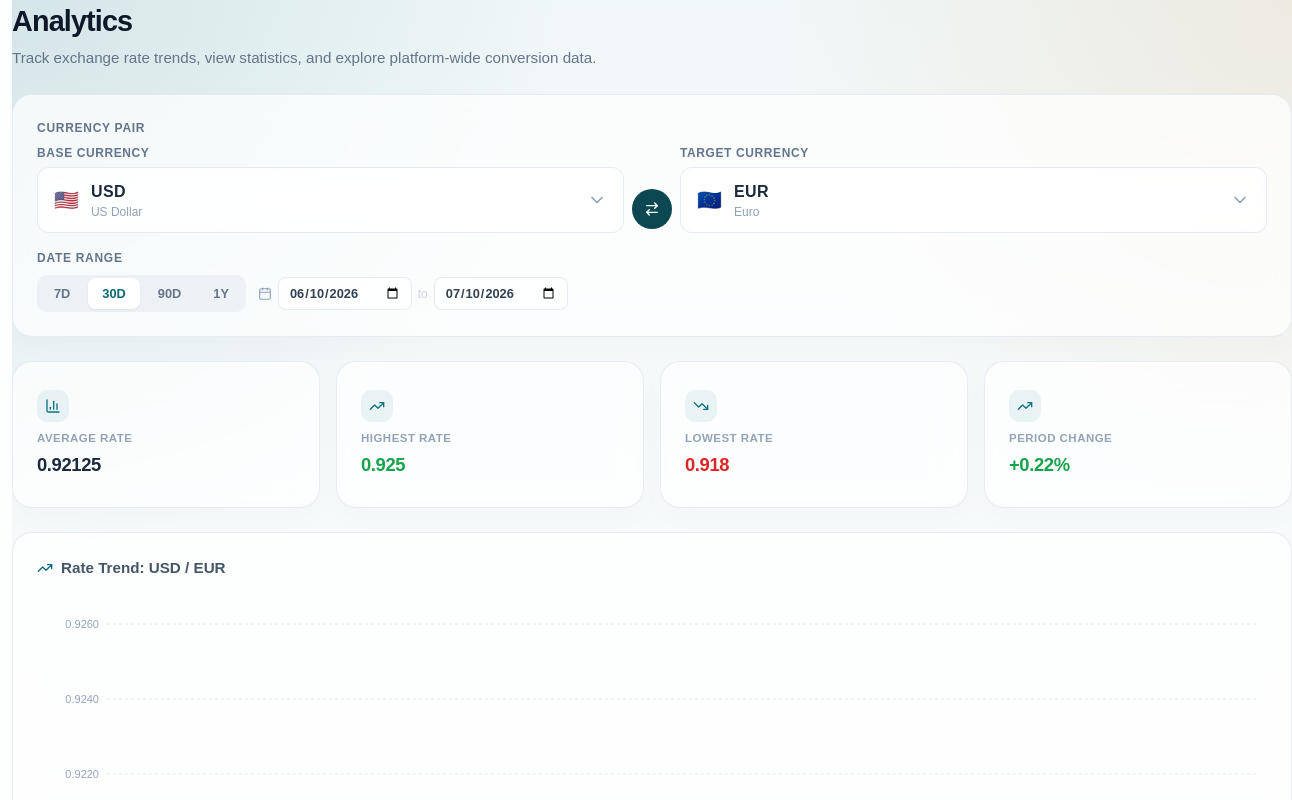
Test: DashboardAnalytics › hides presets when reset is clicked
The width and height of the screenshot is (1292, 800).
Type "2026-01-01" into the date field named "Start date".
click(345, 294); type("2026-01-01")  # box [278,277,412,310]
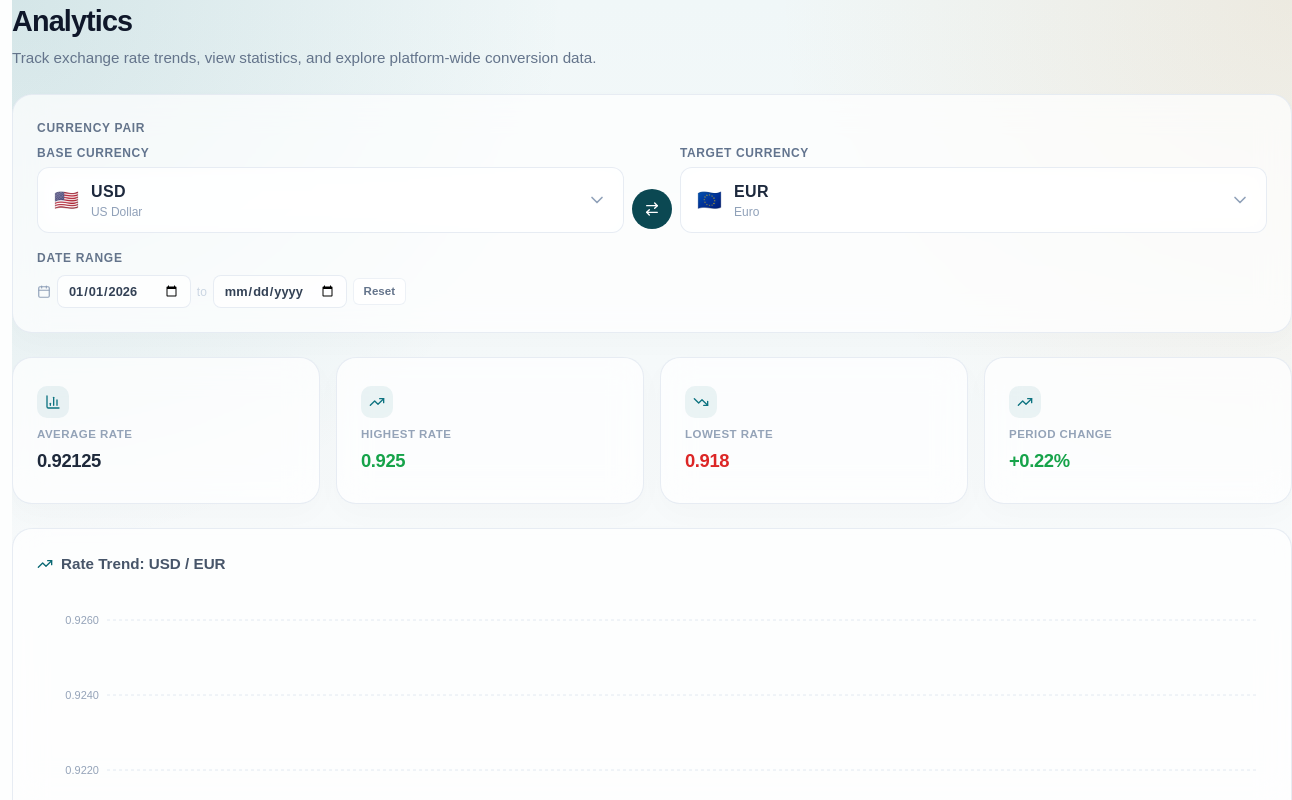
Click the button "Reset".
click(379, 292)  # box [353,278,406,305]
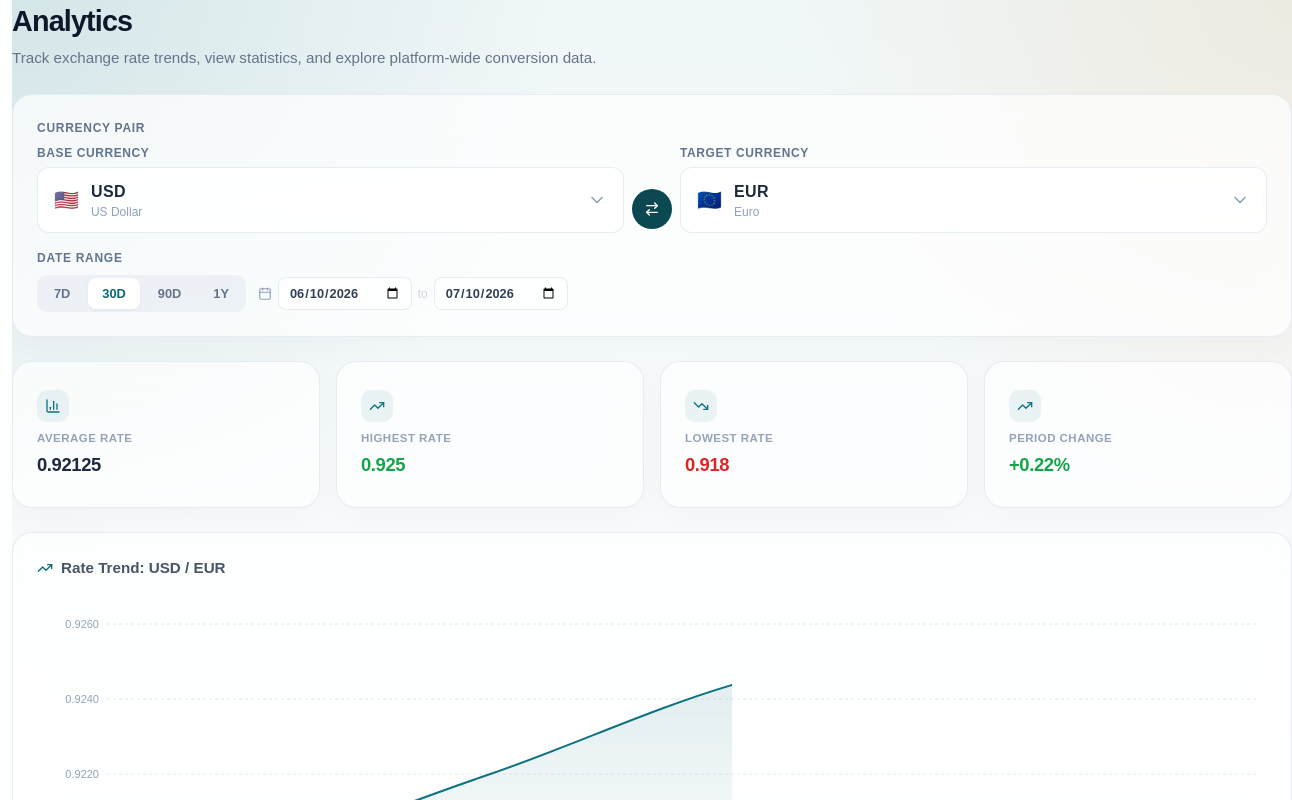
Now the button "Reset" is gone
